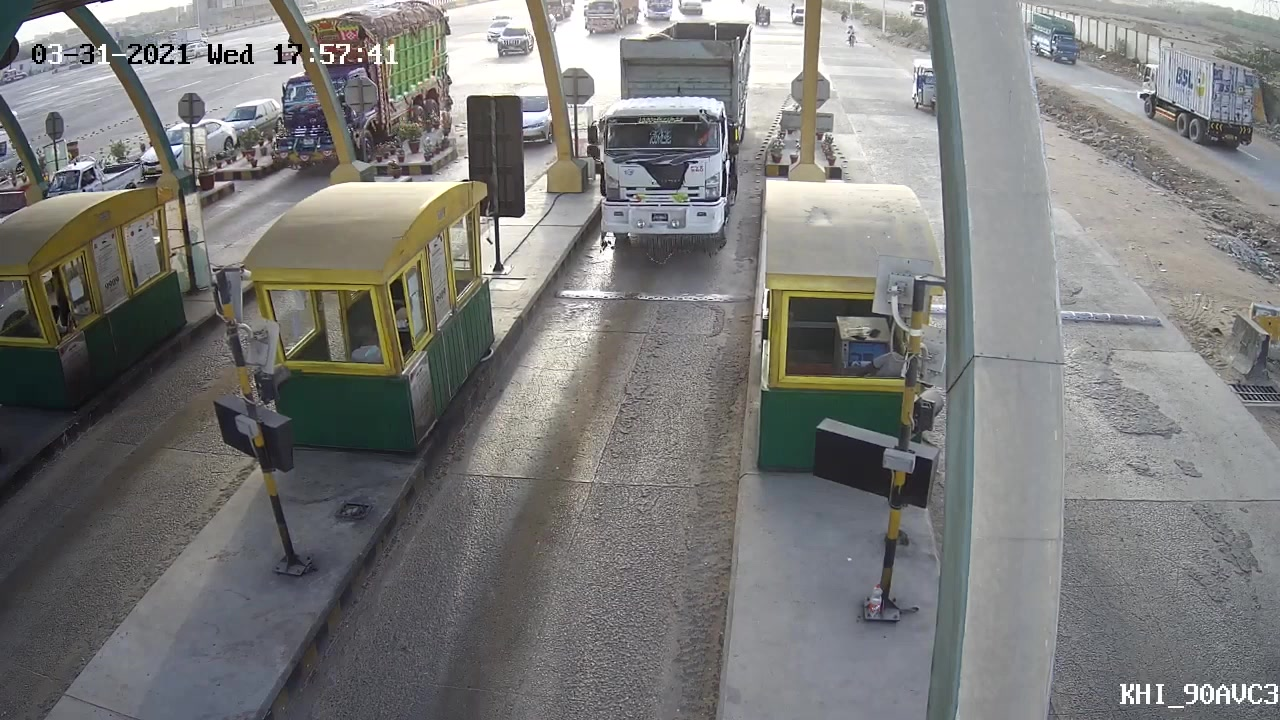F5: (578, 32, 752, 268)
